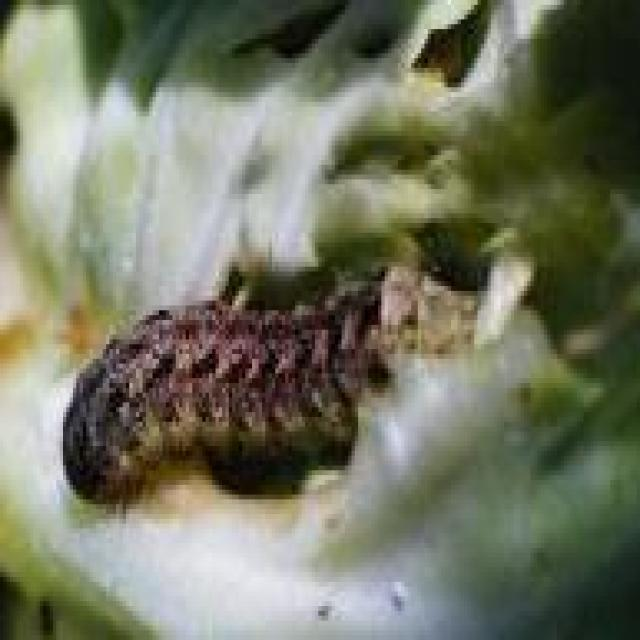armyworm: (39, 254, 504, 545)
